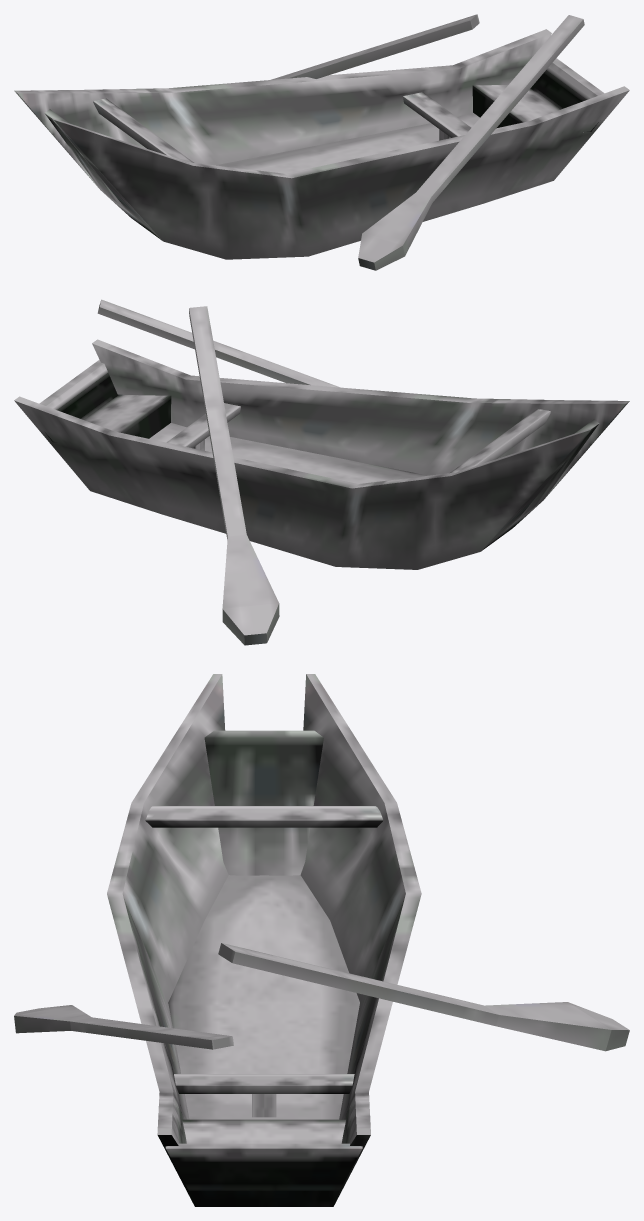
Rendered from general_obj_ferryboat03.glb.
3 renders of one model, top to bottom at view 1: azimuth 30°, elevation 25°; view 2: azimuth 150°, elevation 25°; view 3: azimuth 270°, elevation 25°, orthographic. The views are drawn at different scales.
Visible parts, largest first — view 1: Object10; view 2: Object10; view 3: Object10.
Boxes of the visible parts, box(x1,y1,x2,y2) form: Object10: box(14, 14, 629, 270); Object10: box(14, 299, 629, 645); Object10: box(14, 674, 629, 1206).
Size of the model in its own units: 5.3 by 1.67 by 3.99.
1 material, 1 textured.
